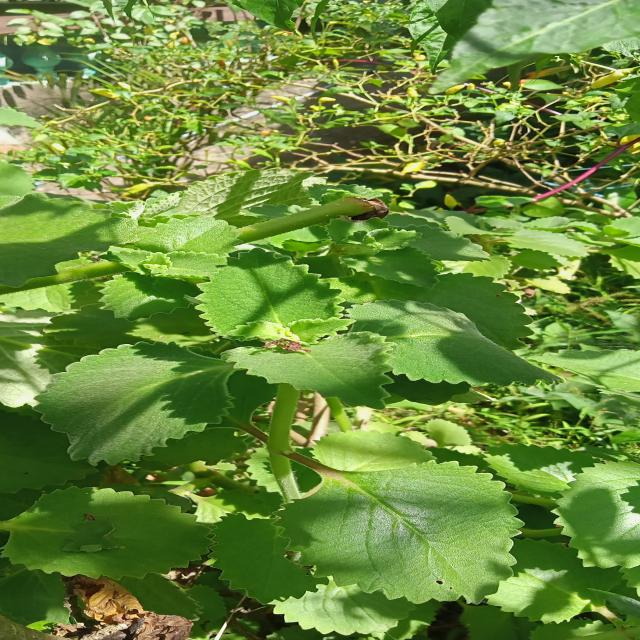Oregano: (186, 254, 541, 411), (271, 451, 544, 606), (35, 329, 257, 471), (39, 489, 243, 588)
